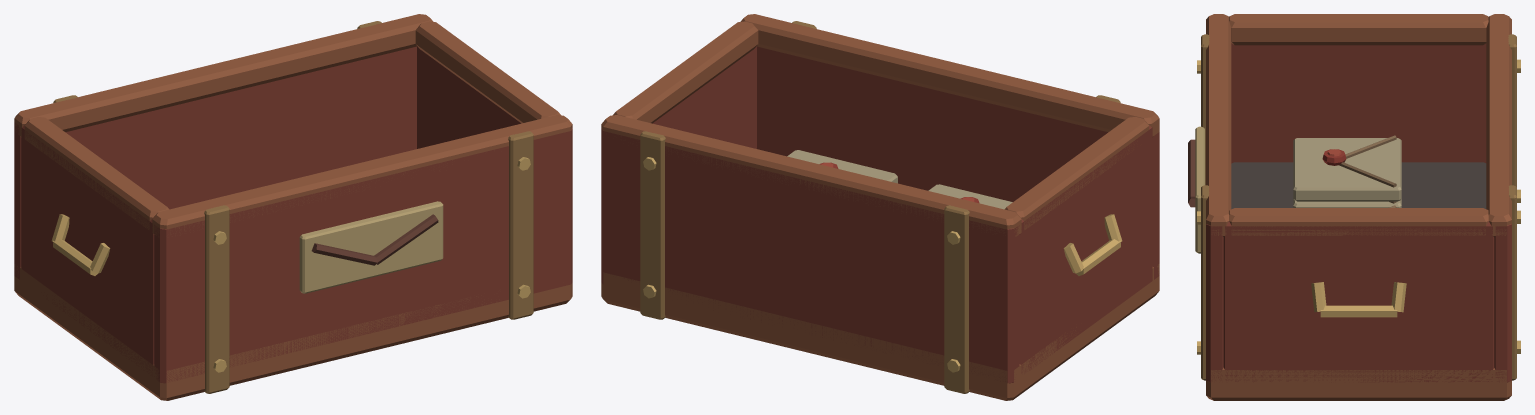
The model's file is post_case.glb.
3 views of the same model, side by side, from view 1: azimuth 30°, elevation 25°; view 2: azimuth 150°, elevation 25°; view 3: azimuth 270°, elevation 25° (orthographic).
Visible parts, largest first — view 1: post_case; view 2: post_case; view 3: post_case.
Boxes of the visible parts, left/top/right/bottom form: post_case: left=14, top=14, right=572, bottom=400; post_case: left=601, top=14, right=1159, bottom=400; post_case: left=1188, top=14, right=1520, bottom=400.
Size of the model in its own units: 0.8173 by 0.32 by 0.522.
